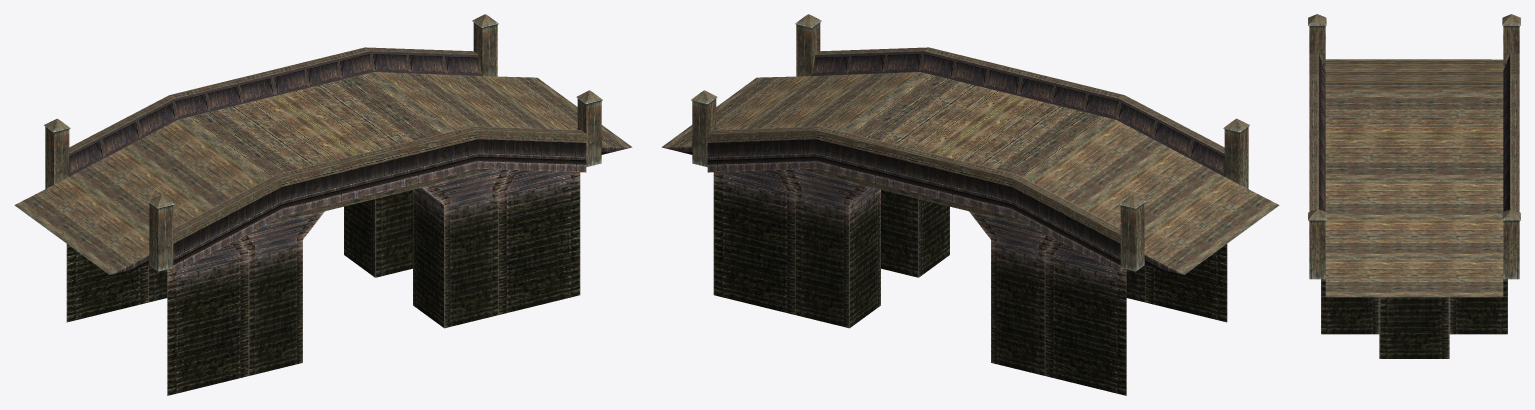
File: tn3_bridge1.glb
3 views of the same model, side by side, from view 1: azimuth 30°, elevation 25°; view 2: azimuth 150°, elevation 25°; view 3: azimuth 270°, elevation 25° (orthographic). The views are drawn at different scales.
Parts seen in each view (by area): view 1: tn3_bridge1-col; view 2: tn3_bridge1-col; view 3: tn3_bridge1-col.
Boxes of the visible parts, <box> form: tn3_bridge1-col: <box>14,14,632,395</box>; tn3_bridge1-col: <box>661,14,1279,395</box>; tn3_bridge1-col: <box>1308,14,1520,358</box>.
Size of the model in its own units: 15.88 by 5.93 by 6.
7 materials, 7 textured.
